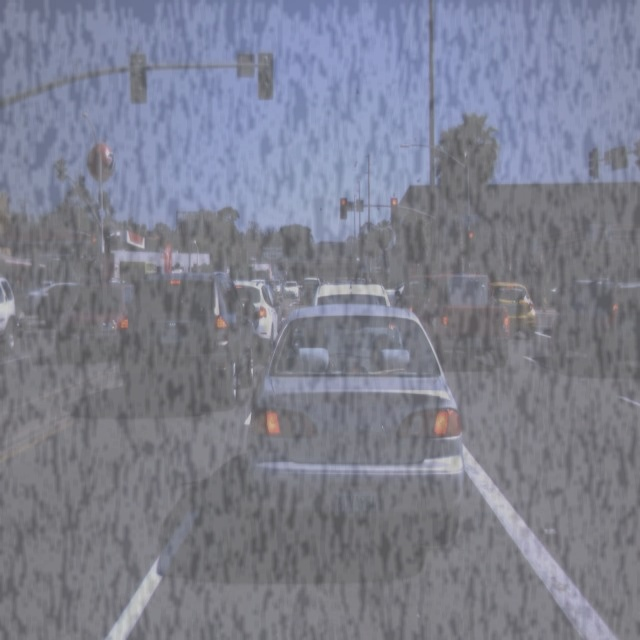stop: (390, 198, 399, 222), (468, 232, 474, 247)
stop left: (87, 234, 101, 258), (337, 197, 351, 217)
stop left traffic light: (87, 234, 101, 258), (337, 197, 351, 217)
stop traffic light: (390, 198, 399, 222), (468, 232, 474, 247)
